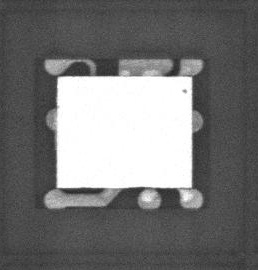DIE_INK: (172, 91, 181, 99)
